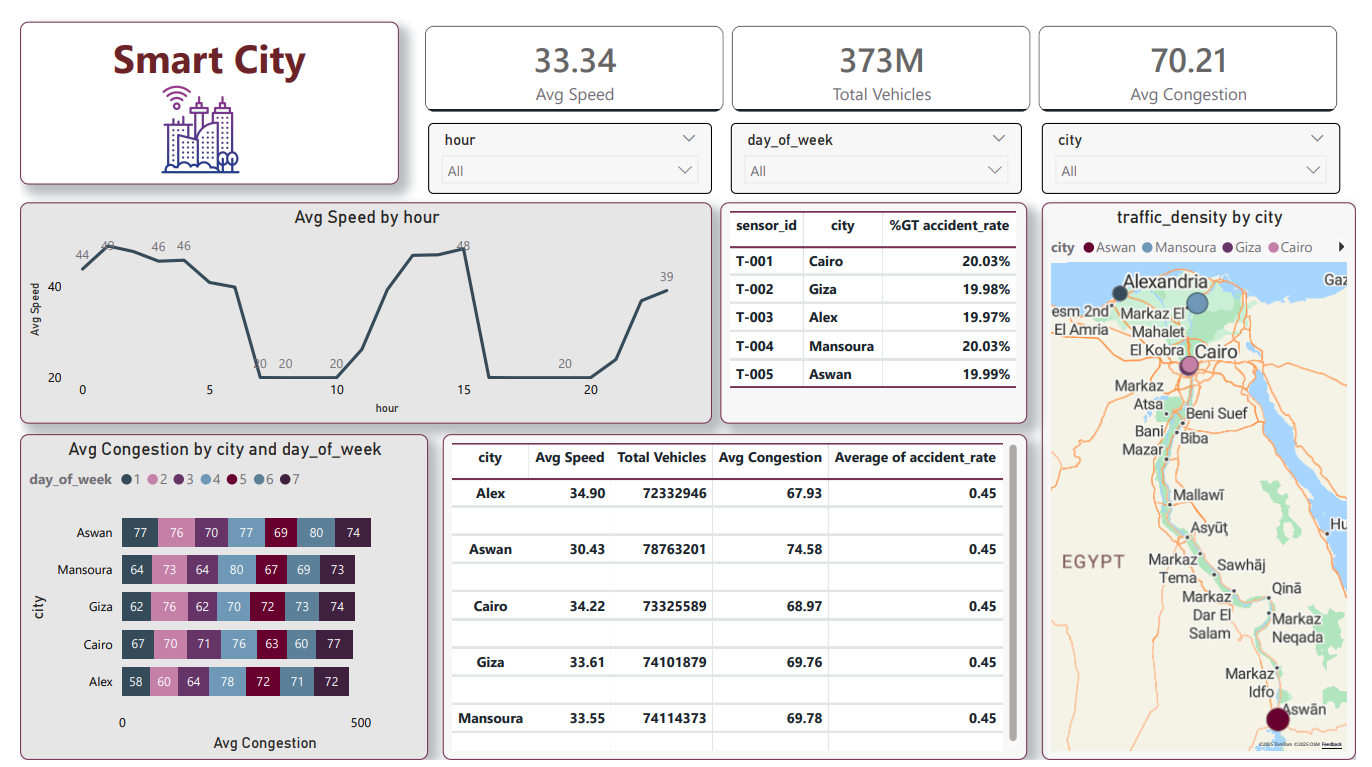

Layout of this report page (visuals, bound fields, positions):
{"tool":"powerbi","page":{"name":"Traffic Analytics","canvas":[1280,720],"ordinal":0},"visuals":[{"type":"cardVisual","fields":{"Data":["kpi_city_hour.Avg Speed","kpi_city_hour.Total Vehicles","kpi_city_hour.Avg Congestion"]},"box":[371.2,0,908.8,116.2],"z":0},{"type":"textbox","box":[0,12.5,362.5,156.2],"z":1000},{"type":"image","box":[129.1,71.2,88.1,89.3],"z":2000},{"type":"azureMap","title":"traffic_density by city","fields":{"Y":["dim_location.lat"],"X":["dim_location.lon"],"Series":["dim_location.city"],"Size":["Avg(fact_traffic_air.traffic_density)"]},"box":[978.8,186.2,301.2,533.8],"z":3000},{"type":"lineChart","fields":{"Category":["dim_time.hour"],"Y":["kpi_city_hour.Avg Speed"]},"box":[0,186.2,662.5,211.2],"z":4000},{"type":"barChart","fields":{"Category":["dim_location.city"],"Y":["kpi_city_hour.Avg Congestion"],"Series":["dim_time.day_of_week"]},"box":[0,407.5,391.2,312.5],"z":5000},{"type":"tableEx","fields":{"Values":["dim_sensor.sensor_id","dim_location.city","Sum(fact_traffic_air.accident_rate)"]},"box":[671.2,186.2,293.8,211.2],"z":6000},{"type":"slicer","fields":{"Values":["dim_time.hour"]},"box":[391.2,110,271.2,67.5],"z":7000},{"type":"slicer","fields":{"Values":["dim_time.day_of_week"]},"box":[681.2,110,278.8,67.5],"z":8000},{"type":"slicer","fields":{"Values":["dim_location.city"]},"box":[978.8,110,286.2,67.5],"z":9000},{"type":"pivotTable","fields":{"Rows":["dim_location.city"],"Values":["kpi_city_hour.Avg Speed","kpi_city_hour.Total Vehicles","kpi_city_hour.Avg Congestion","Avg(fact_traffic_air.accident_rate)"]},"box":[405,407.5,560,312.5],"z":10000}]}

Visuals, with their boxes in screenshot pixels (x1, y1, x2, y2), scaled from the page's 1280x720 canvas onto the 1372x767 screenshot:
cardVisual - kpi_city_hour.Avg Speed x kpi_city_hour.Total Vehicles: 398:0:1371:124
textbox: 0:13:389:180
image: 138:76:233:171
"traffic_density by city" azureMap: 1049:198:1371:766
lineChart - dim_time.hour x kpi_city_hour.Avg Speed: 0:198:710:423
barChart - dim_location.city x kpi_city_hour.Avg Congestion: 0:434:419:766
tableEx - dim_sensor.sensor_id x dim_location.city: 719:198:1034:423
slicer - dim_time.hour: 419:117:710:189
slicer - dim_time.day_of_week: 730:117:1029:189
slicer - dim_location.city: 1049:117:1356:189
pivotTable - dim_location.city x kpi_city_hour.Avg Speed: 434:434:1034:766
